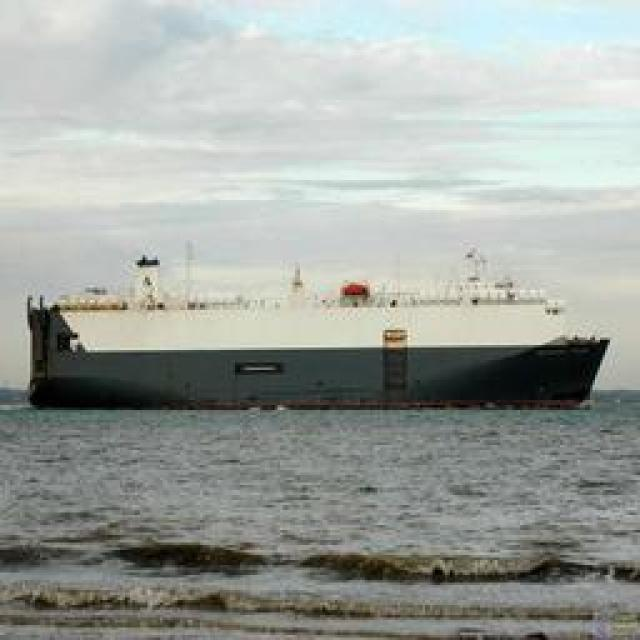ship2: (26, 239, 611, 411)
